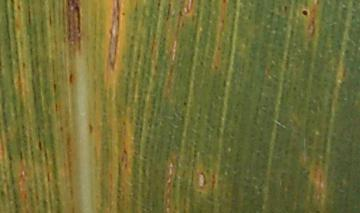tarspot: (301, 10, 308, 16), (183, 102, 186, 106)
